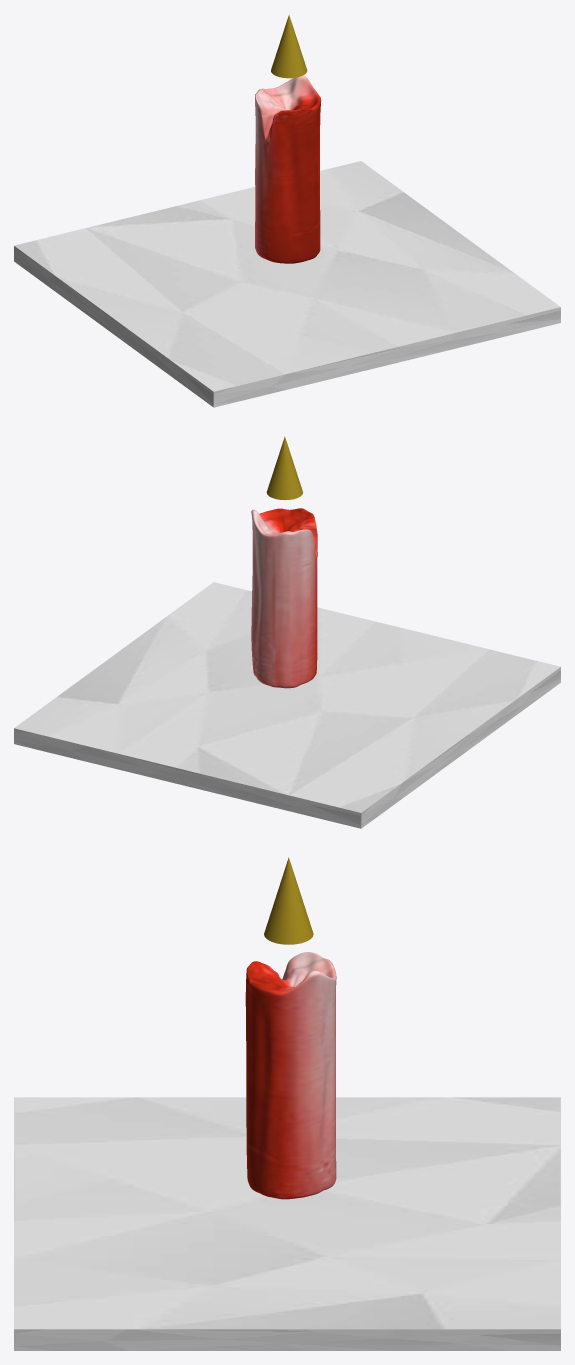
The model's file is vela.DAE.
The picture shows the model from 3 angles, top to bottom: view 1: azimuth 30°, elevation 25°; view 2: azimuth 150°, elevation 25°; view 3: azimuth 270°, elevation 25°; orthographic projection. The views are drawn at different scales.
Visible parts, largest first — view 1: Box001, Cylinder01, Cone001; view 2: Box001, Cylinder01, Cone001; view 3: Box001, Cylinder01, Cone001.
Part boxes in pixels (x1,y1,x2,y2): Box001: (14, 161, 560, 407); Cylinder01: (255, 75, 321, 263); Cone001: (271, 14, 307, 78); Box001: (14, 582, 560, 828); Cylinder01: (251, 508, 317, 688); Cone001: (266, 436, 302, 499); Box001: (14, 1097, 560, 1350); Cylinder01: (245, 952, 336, 1199); Cone001: (264, 857, 313, 944).
Bounding box in the file's own units: 134 × 133 × 102.
Materials: 4 (2 with a texture image).
